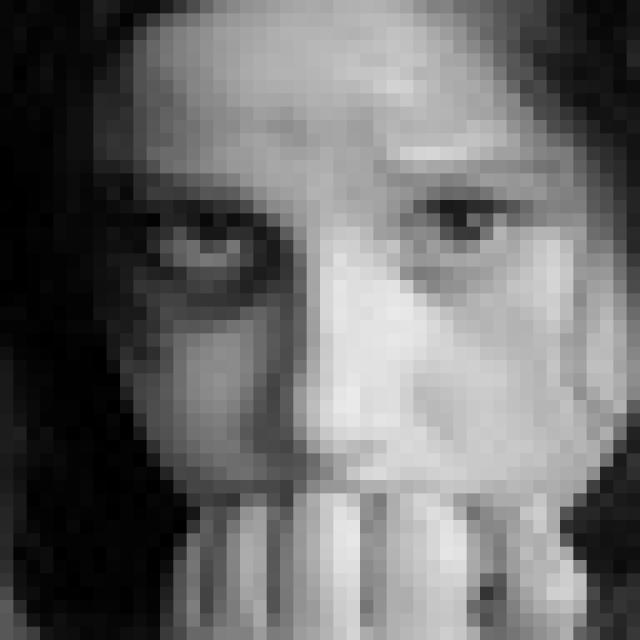fear: (134, 126, 586, 557)
